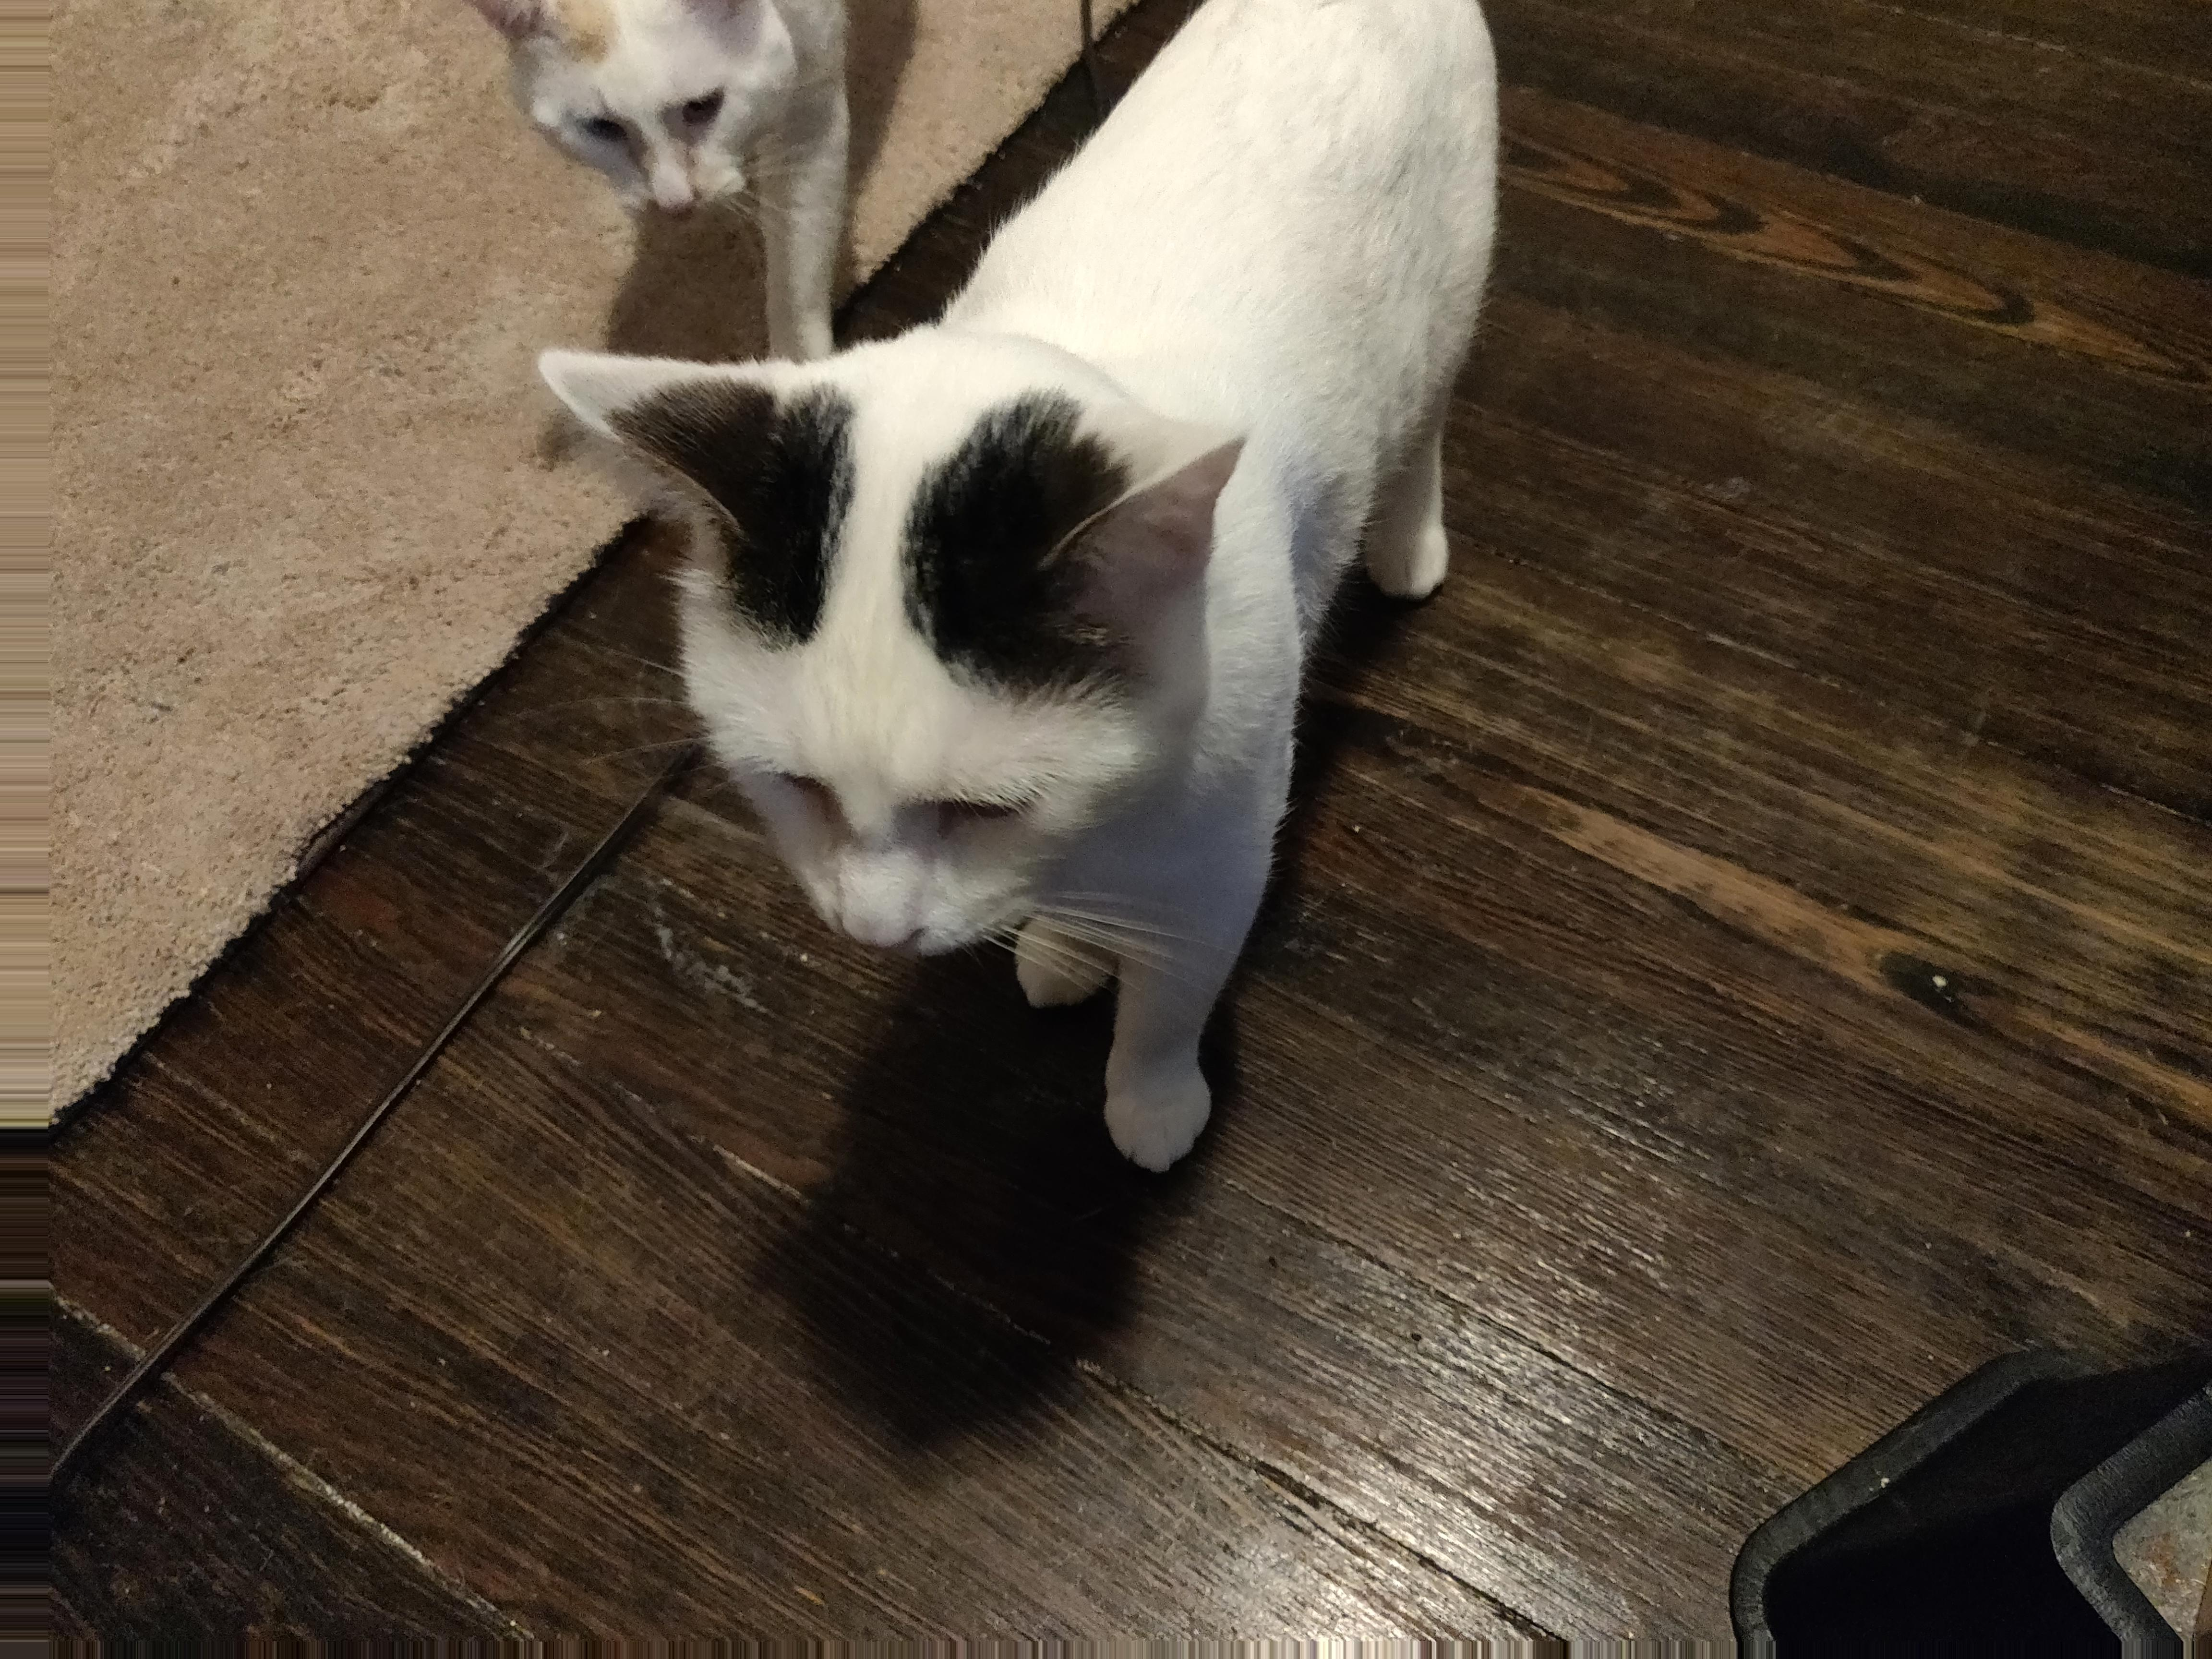cat: (470, 15, 1496, 1150)
